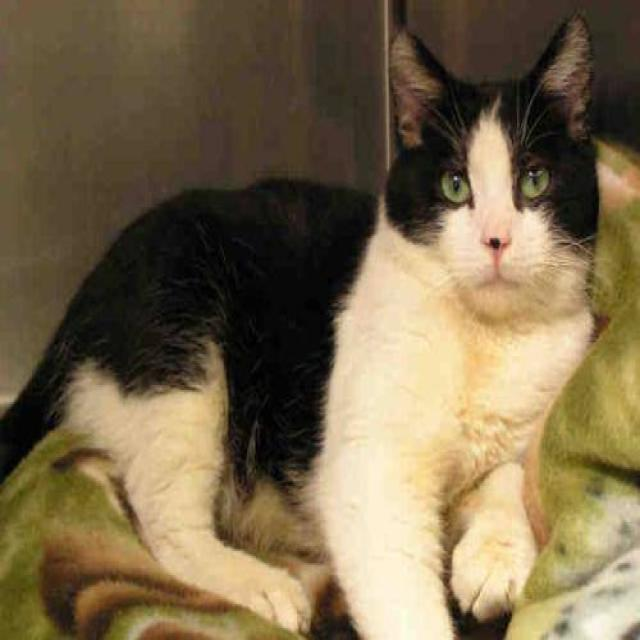cat: (0, 10, 600, 638)
